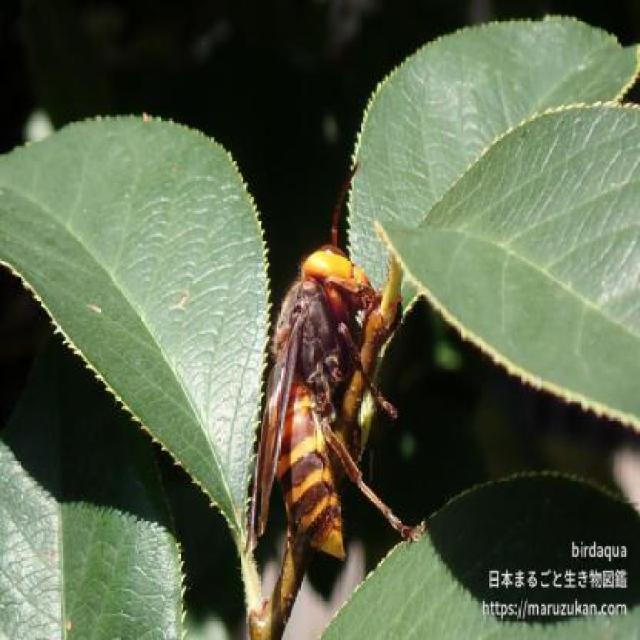Wasp: (242, 213, 424, 609)
